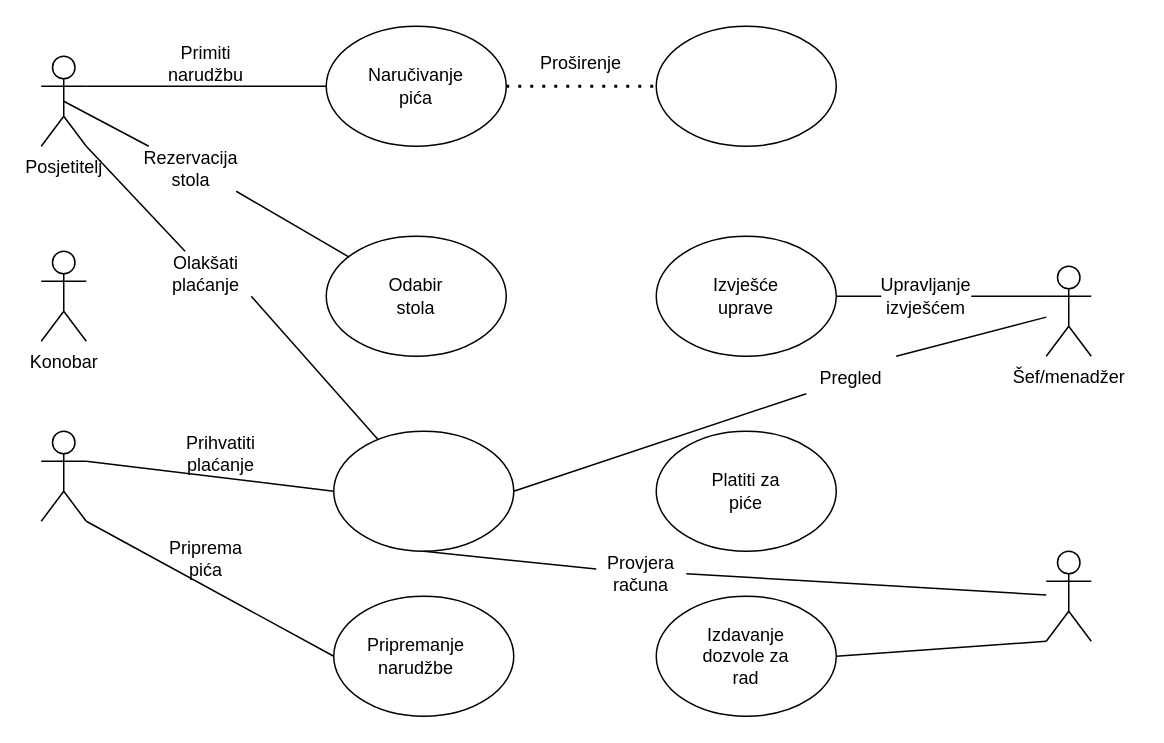
Image size: 1164x743. Some labels were removed from this diagram. The centre of each missing label's shape, as x and y in pixels:
"Barista" belongs at pixel 63 475.
"Piće" belongs at pixel 745 85.
"Plaćanje pića" belongs at pixel 423 490.
"Porezni inspektor" belongs at pixel 1068 595.
